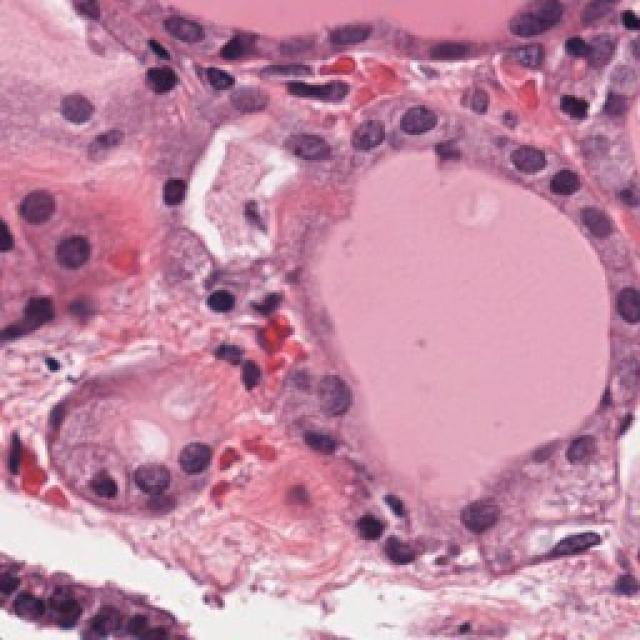normal: (270, 114, 359, 198), (112, 446, 179, 522), (379, 89, 449, 161), (347, 96, 409, 172), (172, 420, 230, 501), (57, 212, 107, 283), (583, 181, 623, 264), (503, 135, 552, 193), (606, 272, 640, 337)
